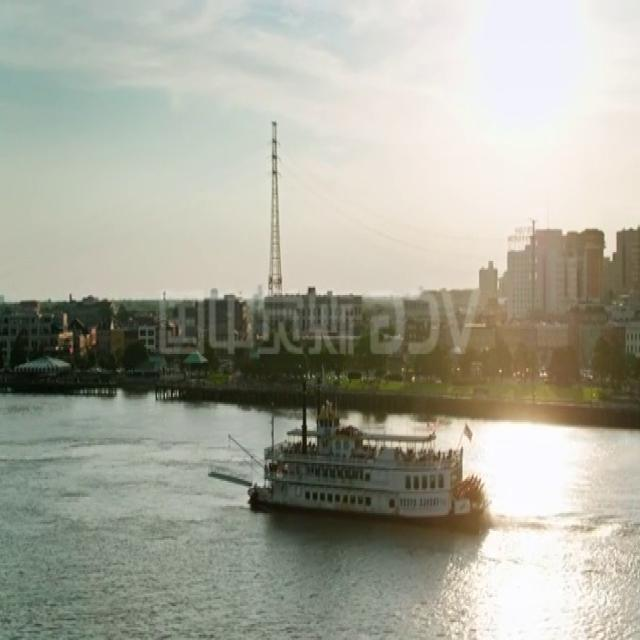passenger ship: (248, 412, 491, 522)
